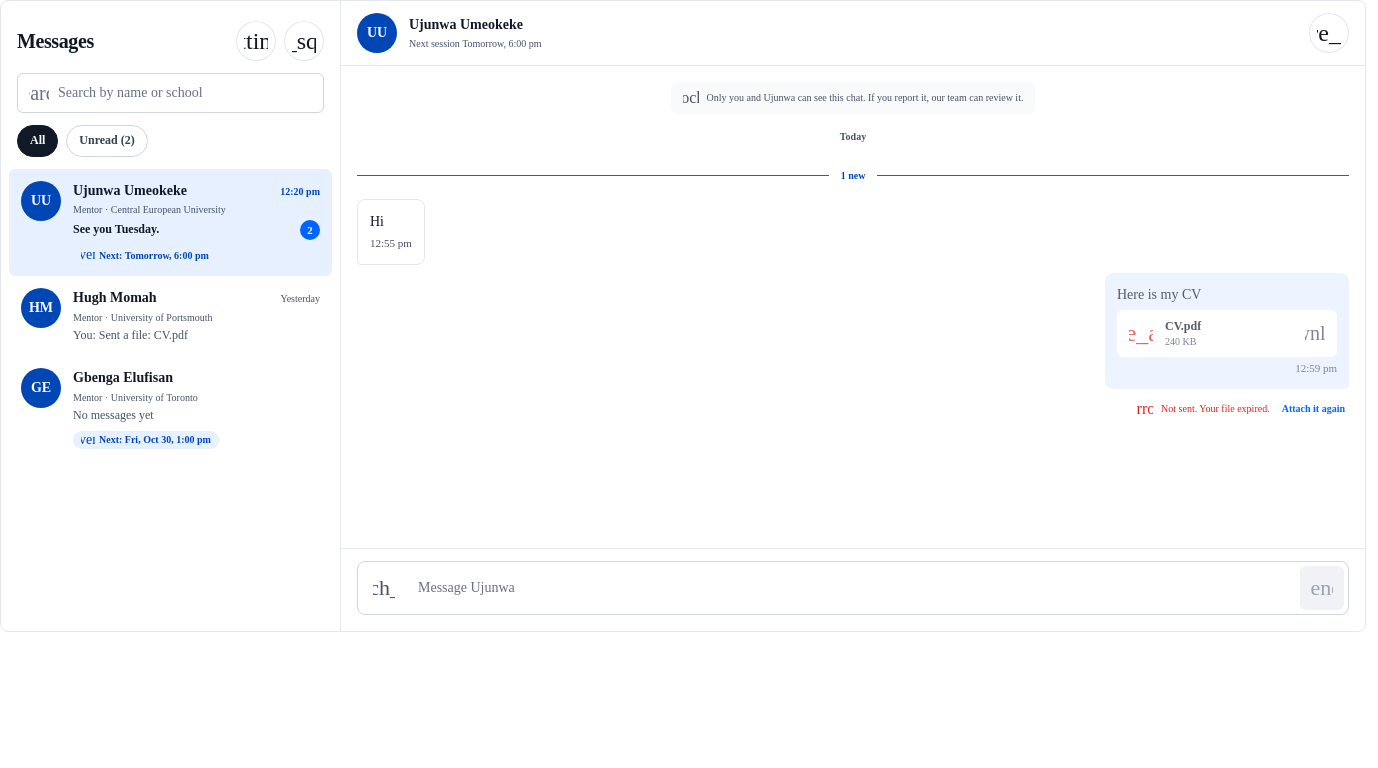
it: files in the thread › an unsent message shows its file; one refused because the file expired offers Attach it again
The image size is (1378, 768).
Expected: the button with aria-label "View CV.pdf" is shown, [1117, 310, 1337, 357]
Expected: the text "Not sent. Your file expired." is shown, [1161, 403, 1270, 414]
What coordinates should you click on to do the following:
click the button "Attach it again"
I would click on:
 (1313, 409)
Its box is [1278, 393, 1349, 425].
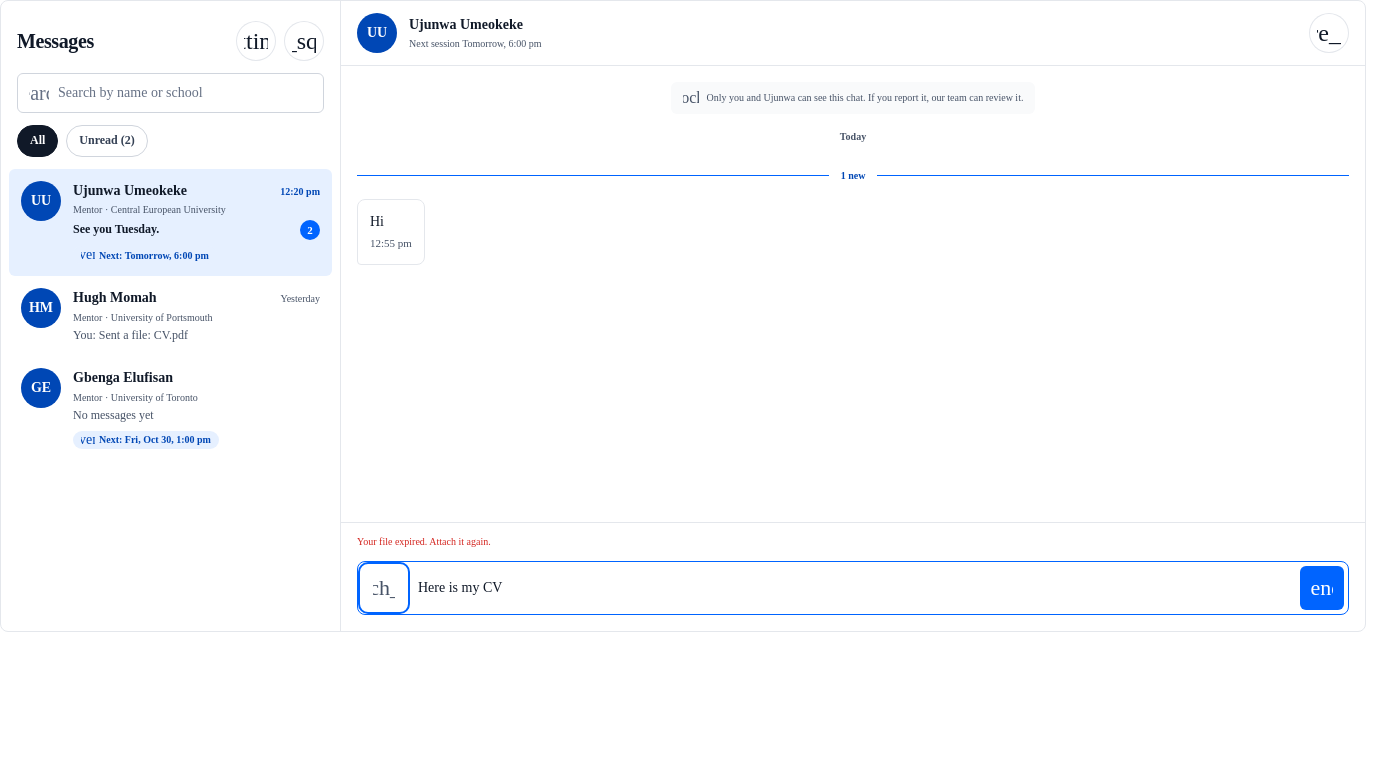
Expected: the text box holds "Here is my CV", [414, 566, 1292, 610]
Expected: the message reads "Your file expired. Attach it again.", [357, 536, 491, 546]
